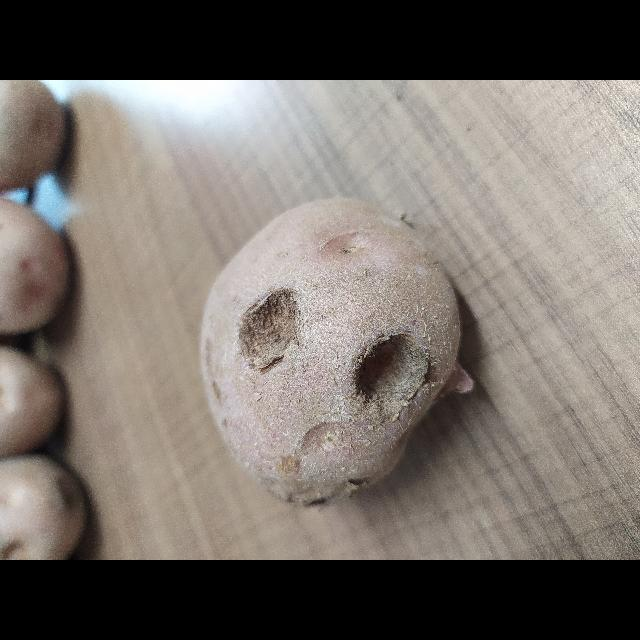Damaged potato: (41, 266, 371, 554)
